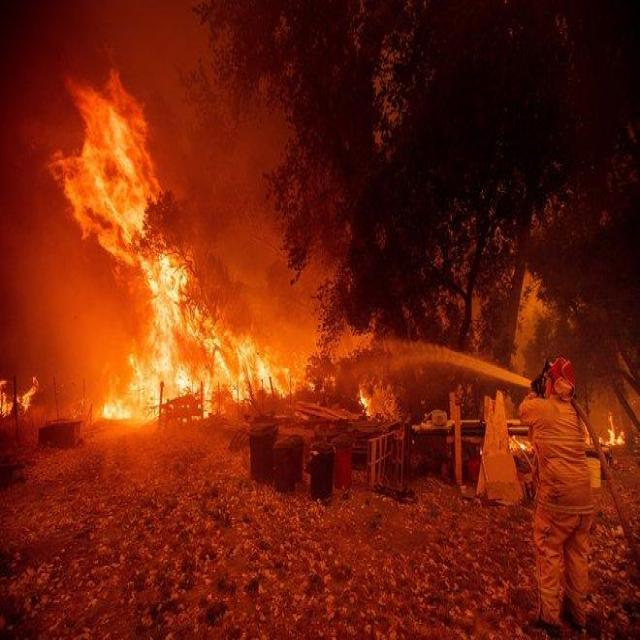Fire: (39, 39, 262, 442)
